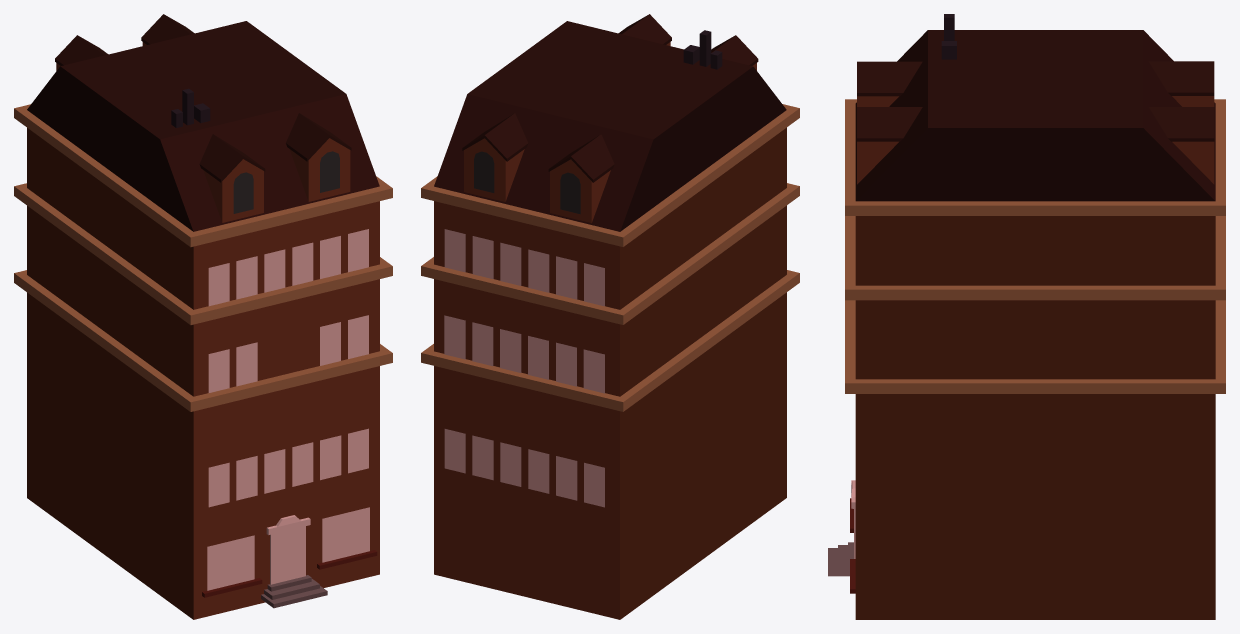
The model's file is building 1.fbx.
The picture shows the model from 3 angles, left to right: view 1: azimuth 30°, elevation 25°; view 2: azimuth 150°, elevation 25°; view 3: azimuth 270°, elevation 25°; orthographic projection. The views are drawn at different scales.
Visible parts, largest first — view 1: Cube.002; view 2: Cube.002; view 3: Cube.002.
Boxes of the visible parts, x1,y1,x2,y2 form: Cube.002: [14, 14, 392, 619]; Cube.002: [421, 14, 799, 619]; Cube.002: [828, 14, 1225, 619].
Bounding box in the file's own units: 1499 × 3456 × 2368.
